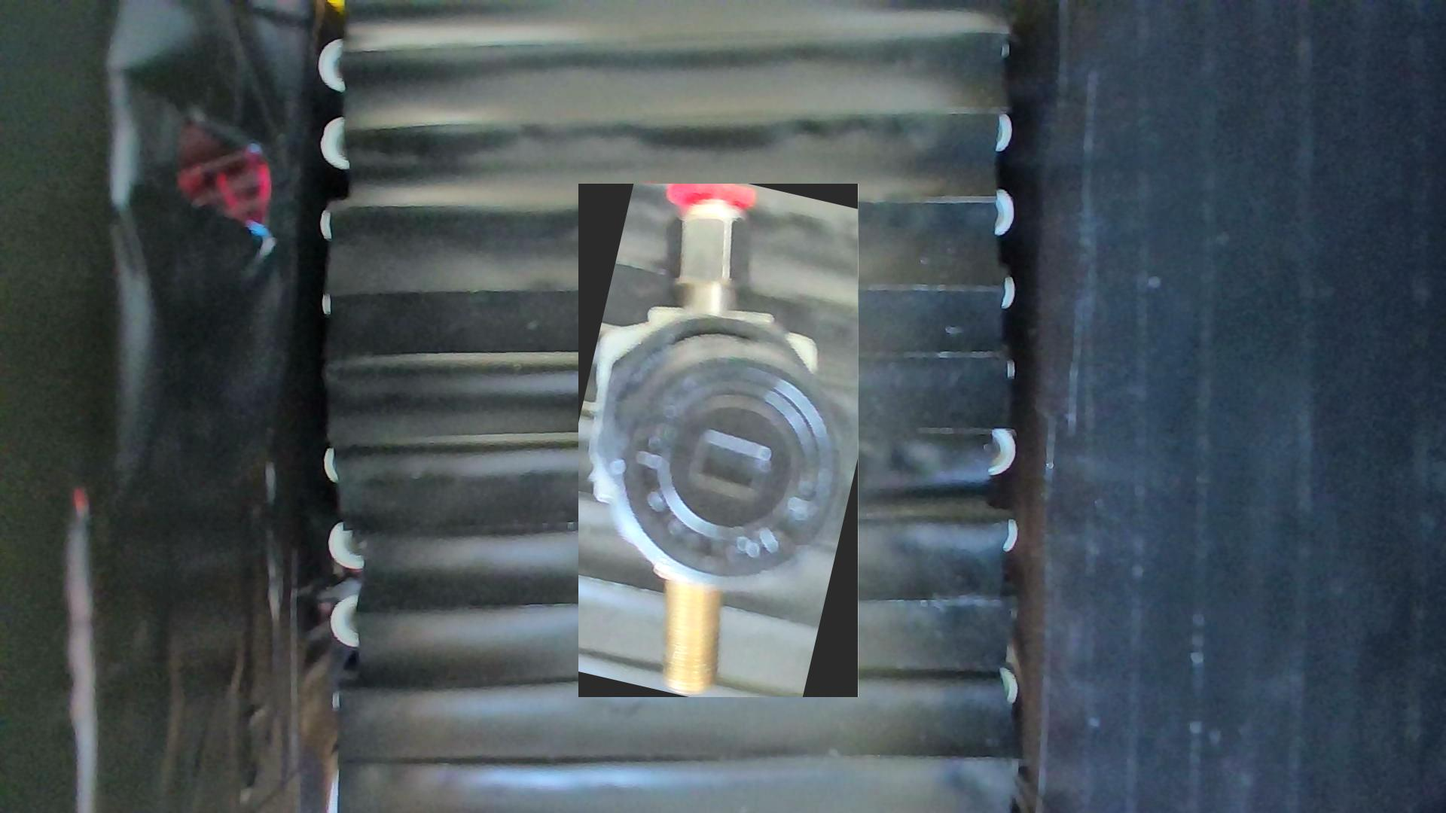regulator: (579, 184, 859, 697)
